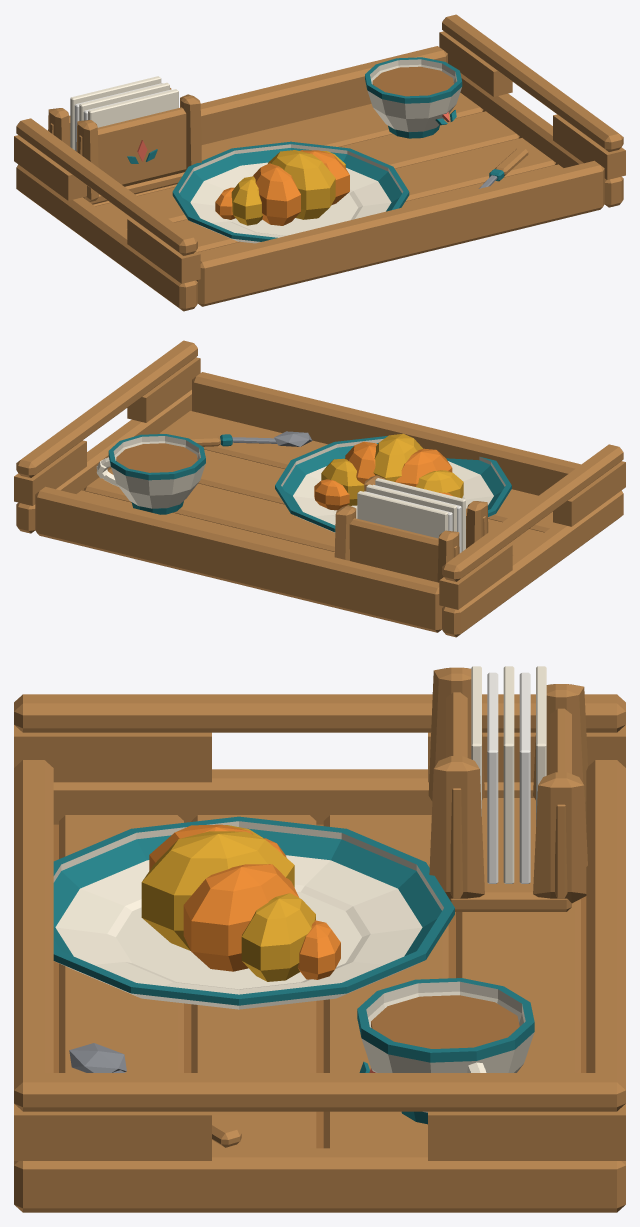
The model's file is tray_breakfast_preset_preview.glb.
3 renders of one model, top to bottom at view 1: azimuth 30°, elevation 25°; view 2: azimuth 150°, elevation 25°; view 3: azimuth 270°, elevation 25°, orthographic. The views are drawn at different scales.
Parts seen in each view (by area): view 1: tray_breakfast_preset_preview; view 2: tray_breakfast_preset_preview; view 3: tray_breakfast_preset_preview.
Part boxes in pixels (x1,y1,x2,y2): tray_breakfast_preset_preview: (14,14,625,311); tray_breakfast_preset_preview: (14,340,625,637); tray_breakfast_preset_preview: (14,666,625,1212).
Size of the model in its own units: 0.52 by 0.114 by 0.34.
